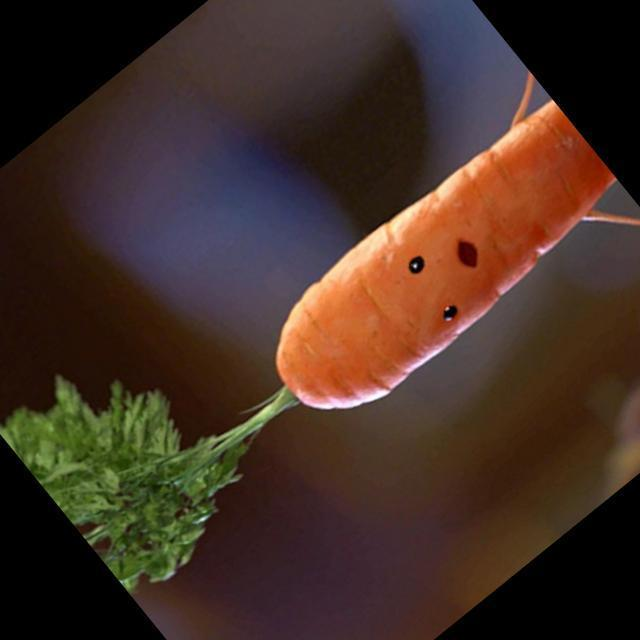Carrot: (2, 102, 614, 583)
